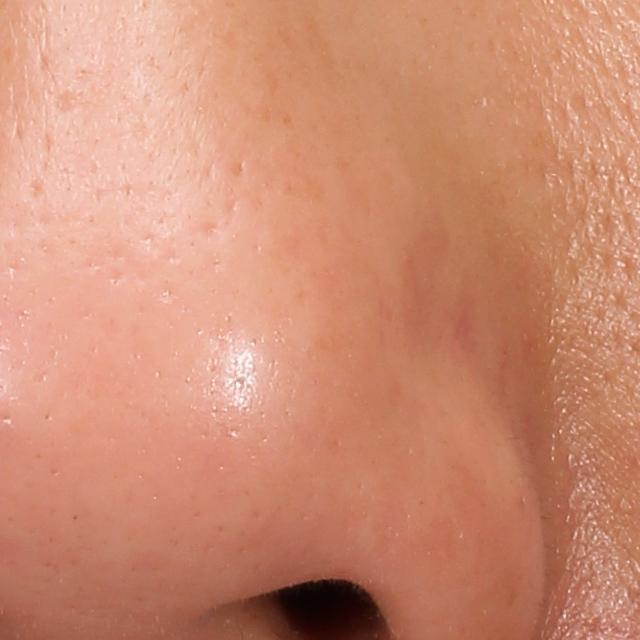atrophic_scar: (55, 88, 76, 119), (24, 178, 47, 205), (202, 220, 223, 241), (231, 158, 246, 176)
